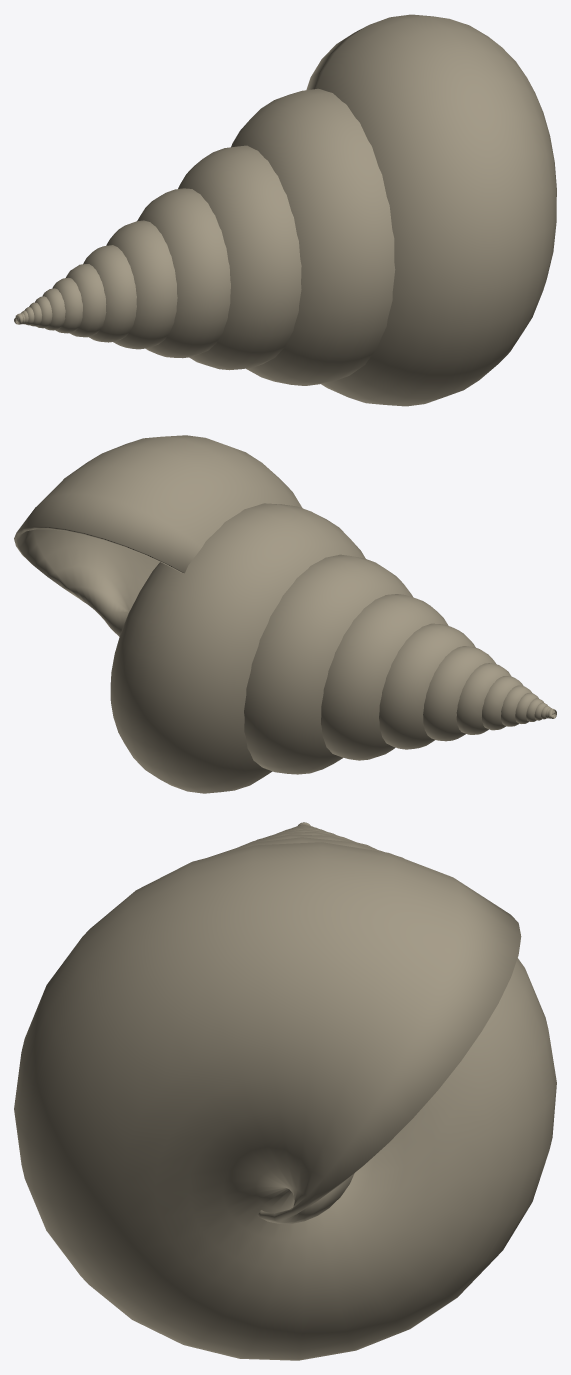
The model's file is seashell1.fbx.
3 views of the same model, one above another, from view 1: azimuth 30°, elevation 25°; view 2: azimuth 150°, elevation 25°; view 3: azimuth 270°, elevation 25° (orthographic). The views are drawn at different scales.
Parts seen in each view (by area): view 1: Circle; view 2: Circle; view 3: Circle.
Boxes of the visible parts, bbox=[...] form: Circle: bbox=[14, 14, 556, 406]; Circle: bbox=[14, 435, 556, 793]; Circle: bbox=[14, 822, 556, 1360].
Size of the model in its own units: 4350 by 2637 by 2459.
